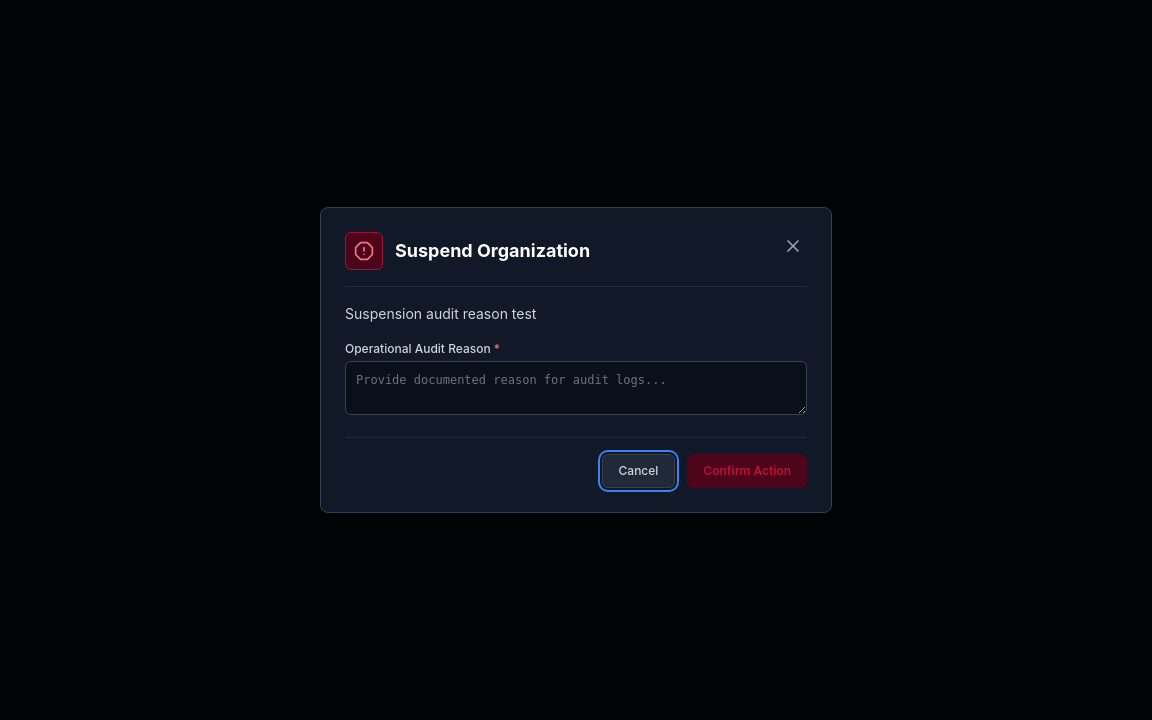
Test: ConfirmationDialog Security & Accessibility Primitive › 3. should enforce mandatory audit reason input length when reasonRequired is true
Expected: the button "Confirm Action" is disabled, [687,454,807,488]
Step 1. Type "abc" into the text box with placeholder "Provide documented reason for audit logs..." → (576, 388), box [345,361,807,415]
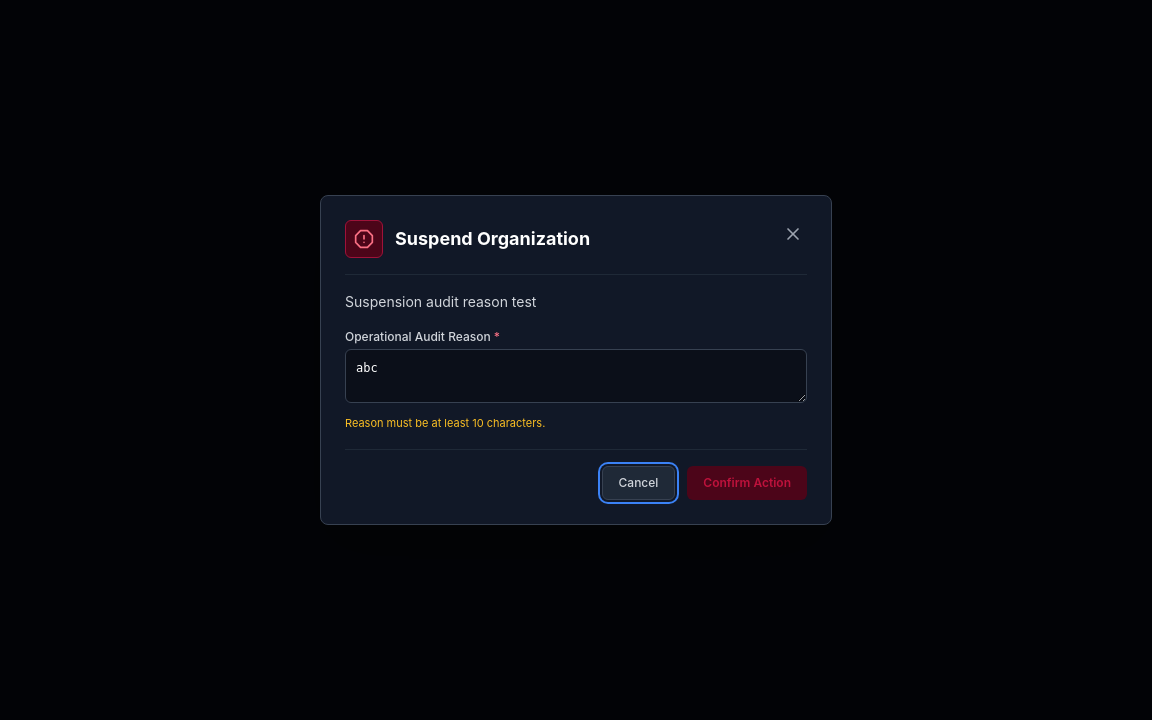
Expected: the button "Confirm Action" is disabled, [687,466,807,500]
Step 2. Replace the text in the text box with placeholder "Provide documented reason for audit logs..." with "Non-payment breach contract" → (576, 376), box [345,349,807,403]
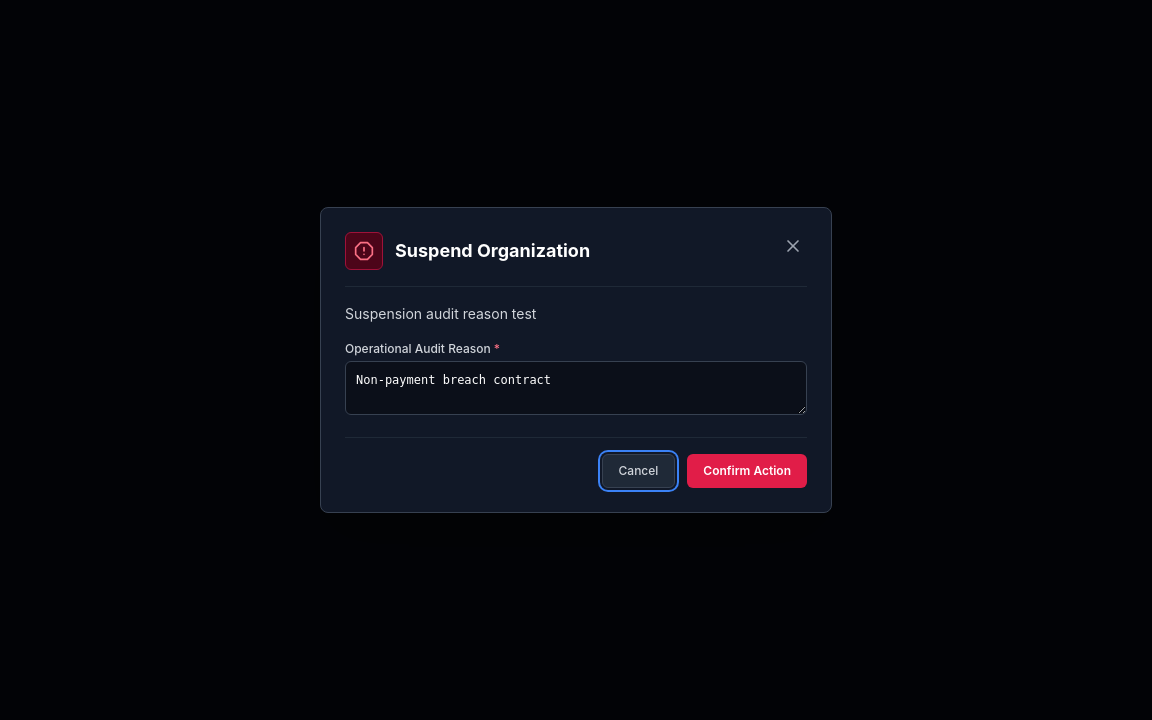
Expected: the button "Confirm Action" is enabled, [687,454,807,488]
